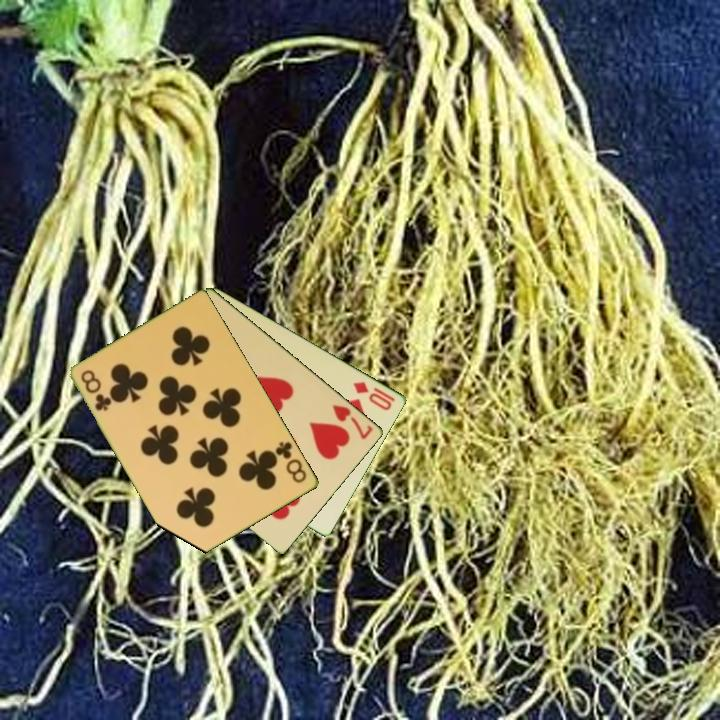10d: (350, 377, 398, 414)
7h: (329, 401, 376, 442)
8c: (272, 438, 310, 486), (77, 366, 115, 414)
